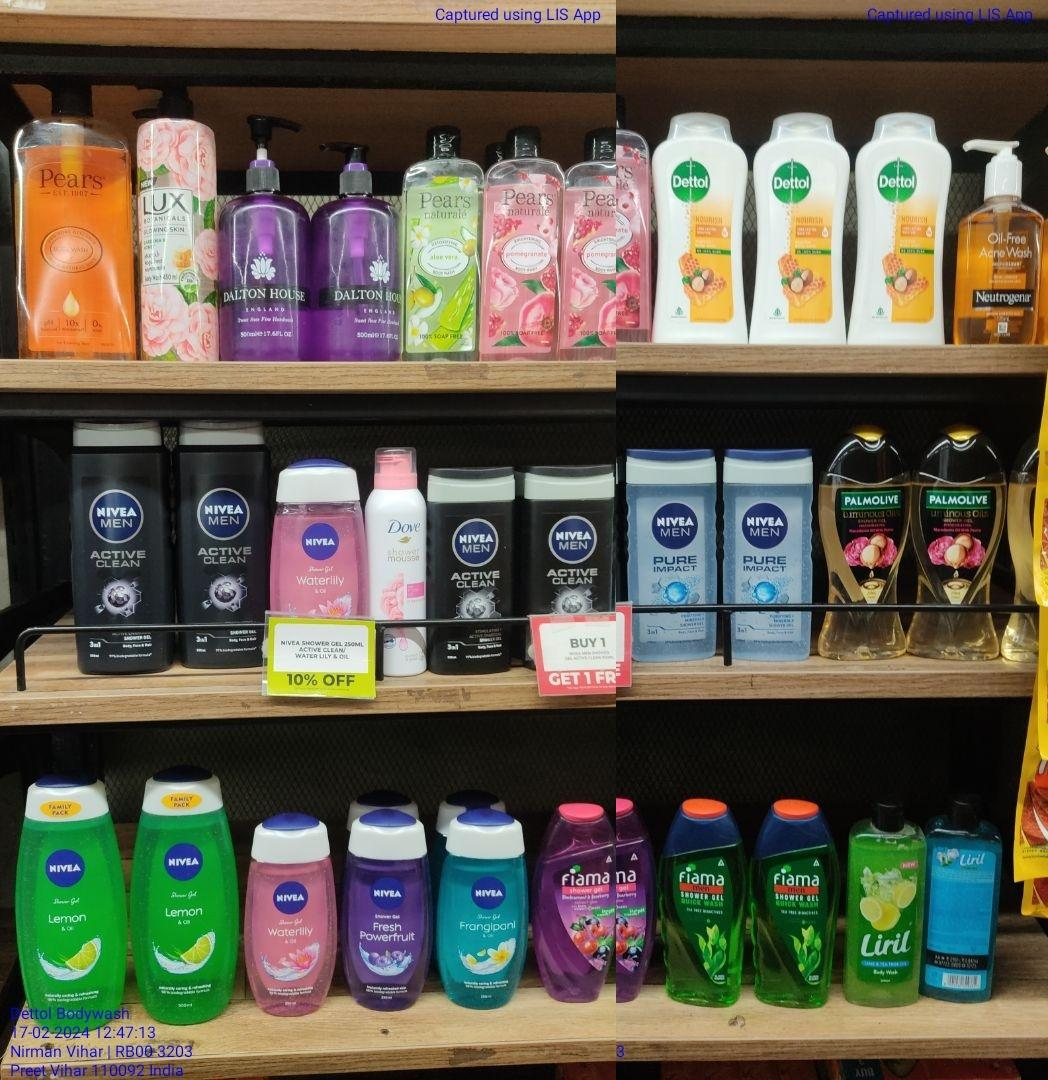Dettol_Nourish_Body_Wash_250ML: (751, 113, 848, 350), (853, 108, 950, 338), (648, 111, 742, 346)
Liril_Lime_and_Tea_Tree_Oil_Body_Wash_250ML: (853, 813, 925, 1007)
Nivea_Shower_Gel_Frangipani_and_Oil_250ML: (446, 816, 522, 1009)
Nivea_Shower_Gel_Fresh_Powerfruit_250ML: (348, 815, 428, 1011)
Nivea_Shower_Gel_Lemon_and_Oil_250ML: (13, 773, 118, 1033), (136, 770, 236, 1031)
Nivea_Shower_Gel_Waterlily_and_Oil_250ML: (278, 456, 368, 669), (243, 823, 340, 1013)
Pears_Naturale_Aloe_Vera_Body_Wash_250ML: (393, 130, 488, 356)
